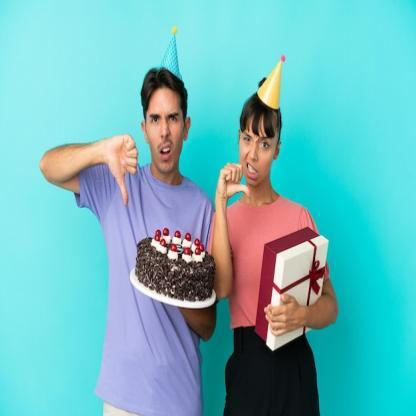thumb_down: (106, 128, 140, 210), (214, 156, 251, 204)
